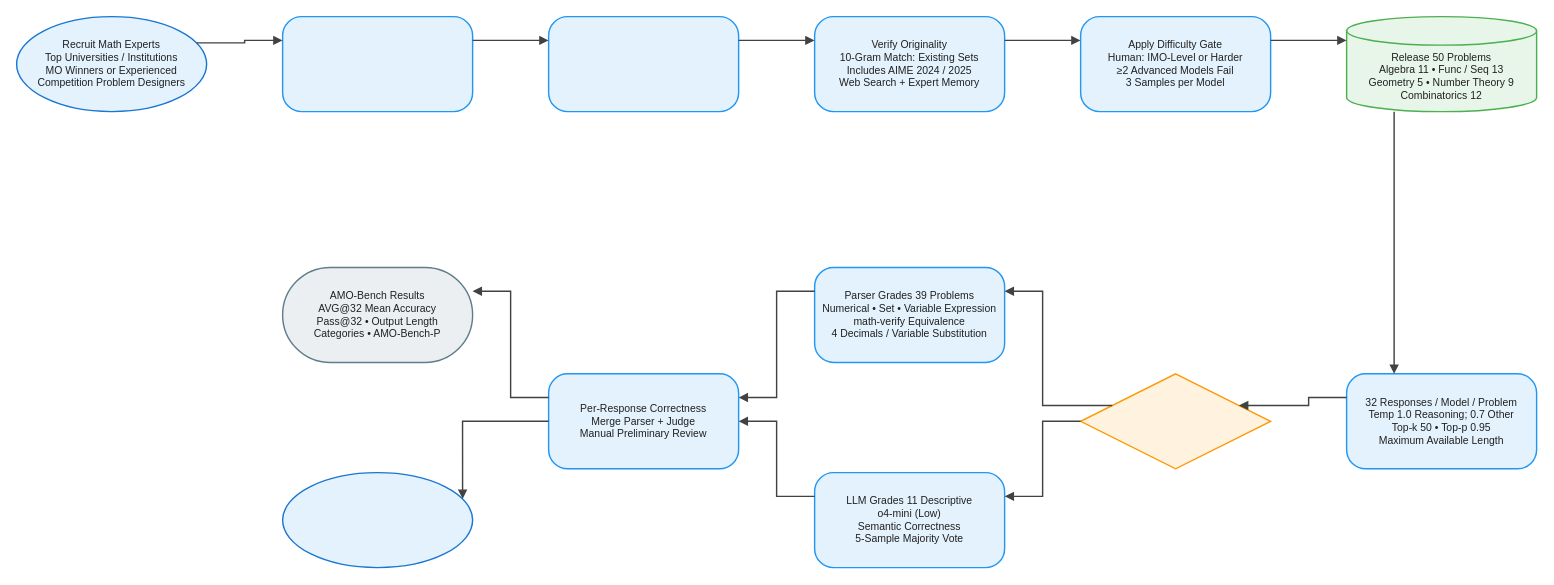
Some shapes in this 1554 by 585 pixel diagram are drawn without their labels. Each missing label, with the centre of its shape:
"Answer Type?" goes at point 1175,421.
"Blind Review by ≥3 Experts Unambiguous + Correct Knowledge within MO / IMO" goes at point 643,63.
"Create Original Problems Final Answer Detailed Step-by-Step Human Solution" goes at point 377,63.
"Validate Hybrid Grader 1,000 Responses • 10 LLMs 99.2% Grading Accuracy" goes at point 377,519.
